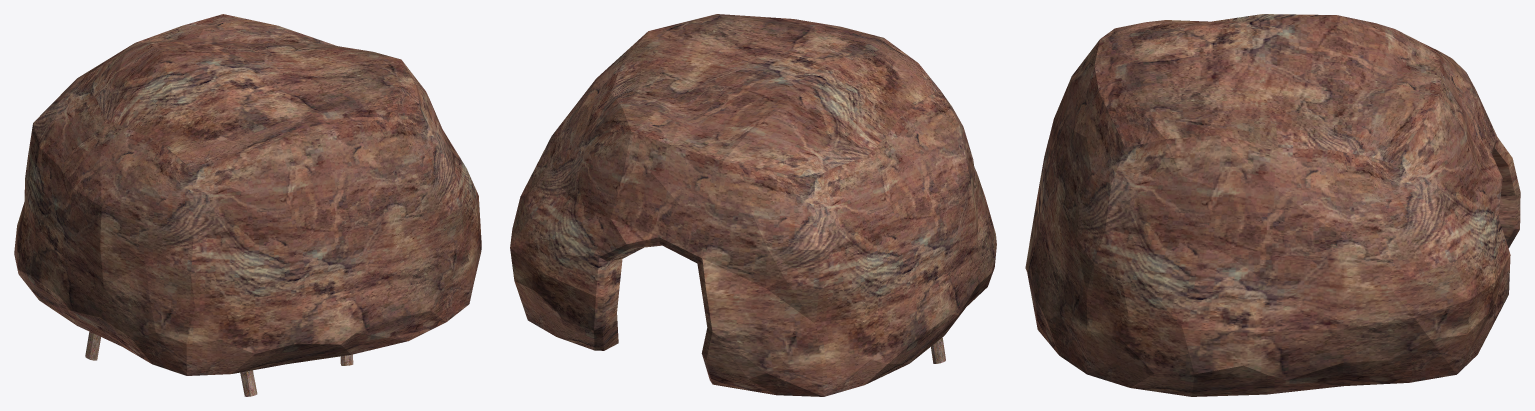
Rendered from thm_dath_night_sister_tent_house_s01_l0.fbx.
3 views of the same model, side by side, from view 1: azimuth 30°, elevation 25°; view 2: azimuth 150°, elevation 25°; view 3: azimuth 270°, elevation 25° (orthographic). The views are drawn at different scales.
Visible parts, largest first — view 1: mesh_node; view 2: mesh_node; view 3: mesh_node.
Boxes of the visible parts, <box> form: mesh_node: <box>14,14,481,396</box>; mesh_node: <box>510,14,996,396</box>; mesh_node: <box>1025,14,1520,396</box>.
Size of the model in its own units: 10.24 by 6.47 by 10.09.
